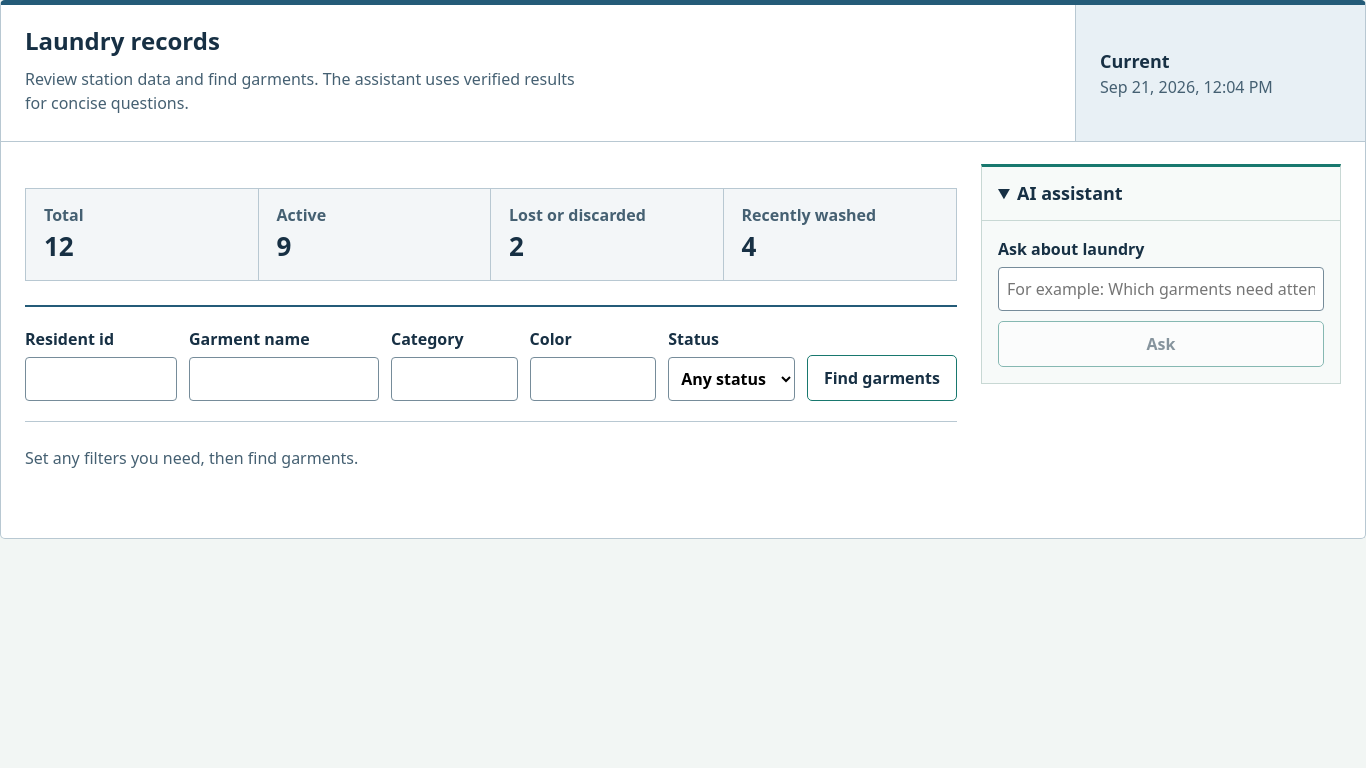
Scenario: keeps overview freshness on the ledger and search freshness by results
Check: the text "12" is shown, box [44,228,74,264]
Step 1. Click the button "Find garments" → {"x": 882, "y": 378}, box [807,355,957,401]
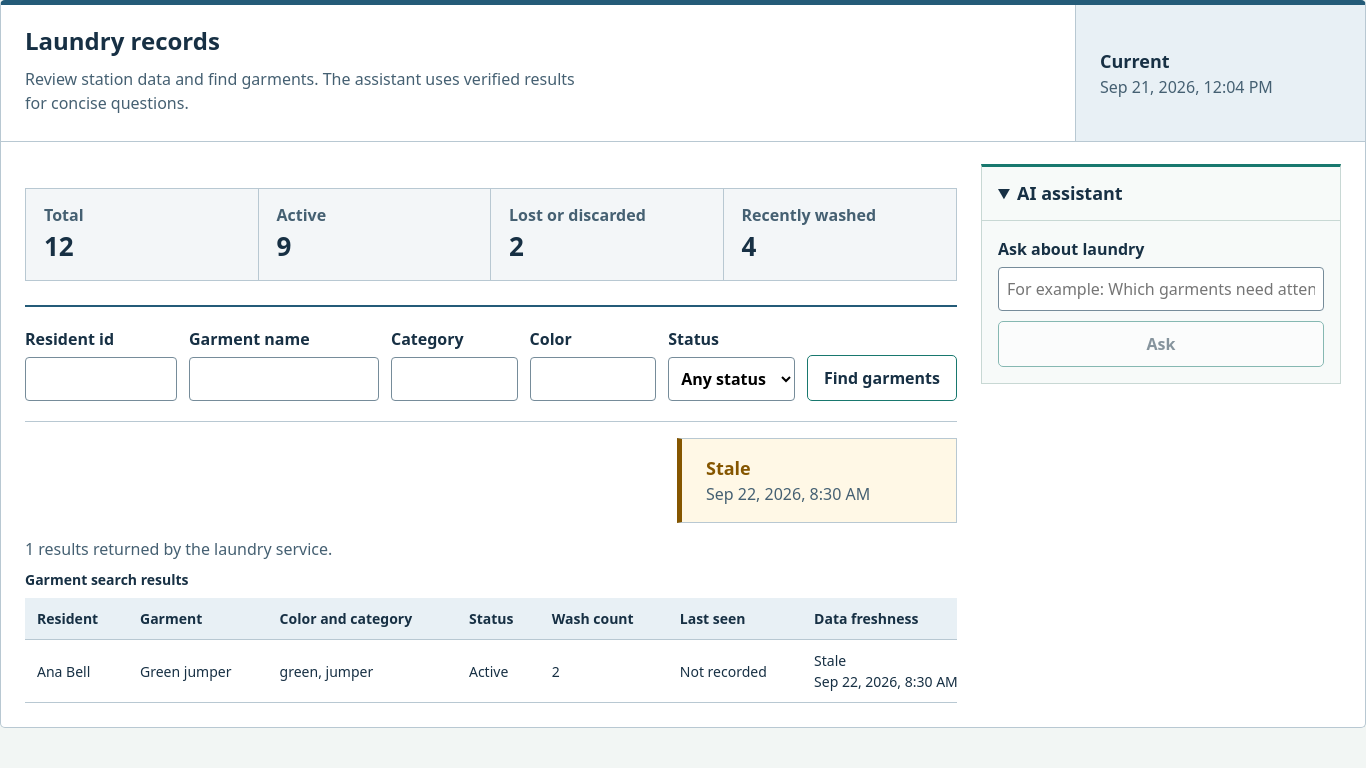
Check: the text "Current" is shown, box [1100,48,1170,72]
Check: the text "Stale" is shown, box [706,456,751,480]
Check: the 1st text "Sep 22, 2026, 8:30 AM" is shown, box [706,483,870,505]
